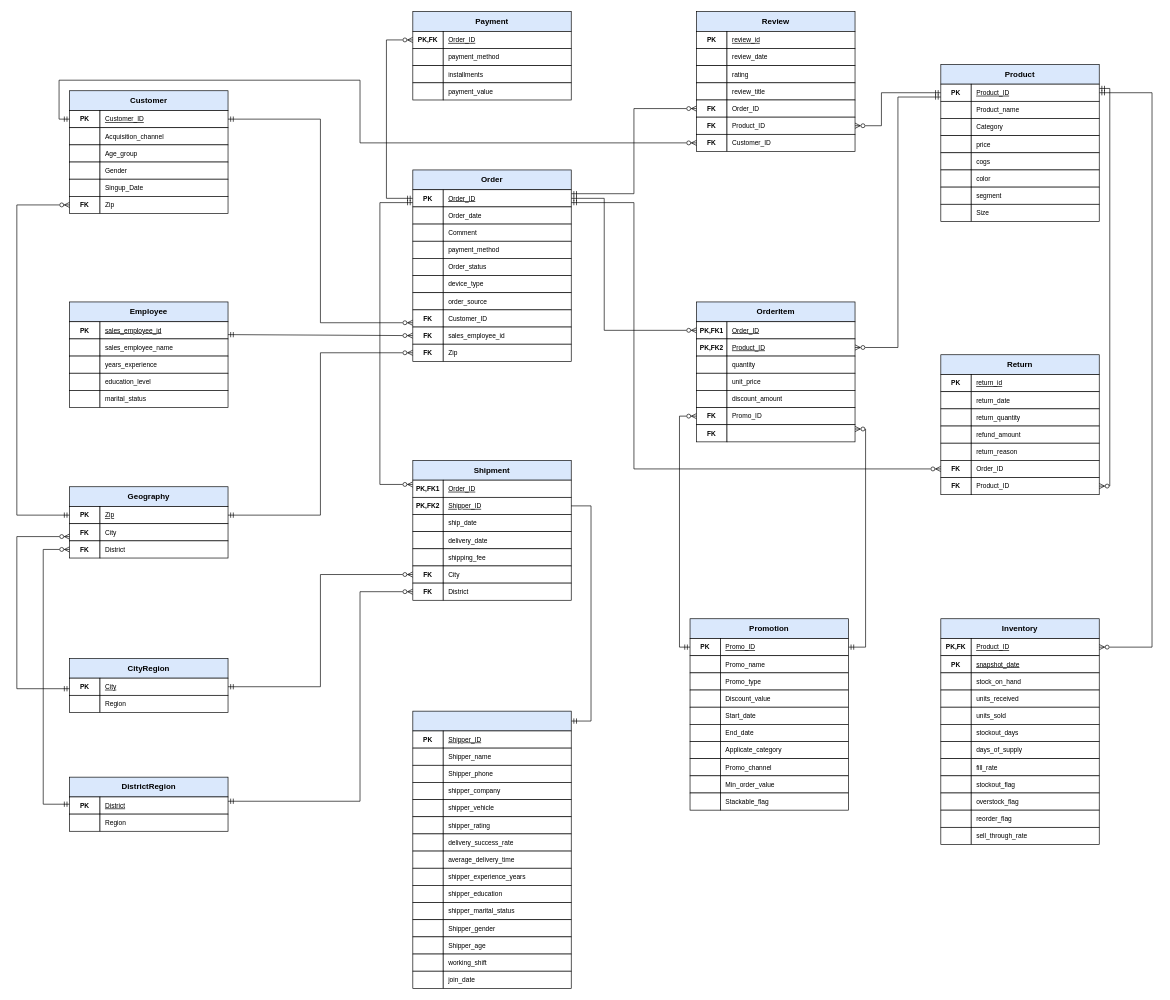
Some shapes in this 1170 by 1000 pixel diagram are drawn without their labels. Here are the shapes that lost their labels. From the top down, the centre of each, then its label:
point 790,433: Promo_ID_2
point 491,720: Shipper
